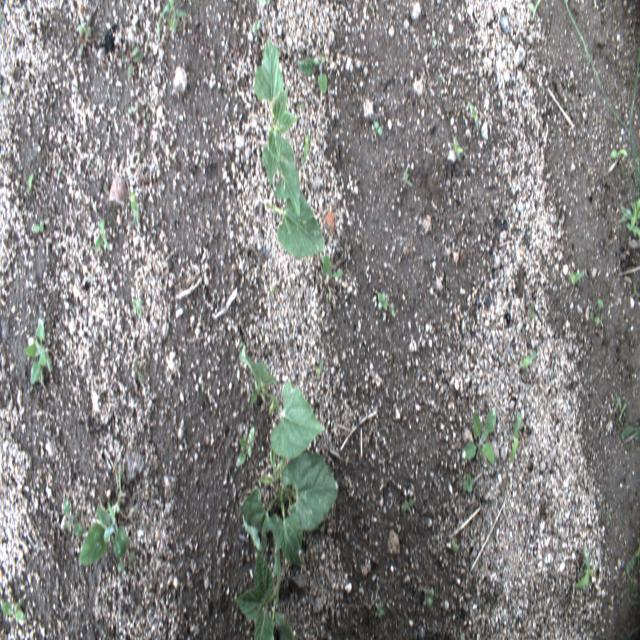crop: (242, 445, 339, 567), (238, 342, 324, 460), (253, 37, 301, 219), (234, 542, 296, 640), (265, 193, 333, 278)
weed: (563, 0, 640, 188), (79, 465, 130, 565), (22, 316, 53, 393), (463, 407, 497, 468), (157, 0, 189, 45), (623, 536, 640, 607), (298, 54, 327, 94), (571, 548, 597, 592), (618, 197, 640, 246), (235, 428, 256, 469), (62, 497, 83, 538), (0, 595, 26, 624), (509, 412, 523, 462), (122, 46, 144, 76), (93, 219, 111, 253), (77, 20, 92, 57), (519, 347, 537, 376), (321, 256, 332, 302), (250, 376, 266, 407), (589, 295, 604, 327), (129, 190, 139, 229), (526, 0, 542, 24), (118, 549, 134, 572), (468, 101, 479, 134), (616, 394, 627, 426), (462, 471, 476, 496), (132, 359, 146, 384), (453, 134, 464, 165), (568, 267, 585, 287), (609, 146, 629, 162), (623, 621, 640, 639), (302, 132, 311, 166), (401, 497, 414, 520), (376, 289, 389, 312), (622, 425, 639, 441), (402, 166, 414, 188), (132, 298, 143, 318), (32, 218, 44, 236), (522, 326, 532, 346), (27, 170, 35, 194), (527, 301, 536, 322), (426, 587, 434, 609), (373, 118, 382, 137), (630, 282, 640, 299), (376, 600, 385, 618), (451, 536, 460, 554), (252, 22, 262, 38), (316, 359, 323, 379), (369, 2, 377, 18), (430, 29, 437, 47), (604, 507, 612, 522), (256, 0, 270, 8), (439, 73, 446, 89), (332, 269, 344, 278), (269, 282, 276, 296), (390, 303, 396, 317), (0, 6, 3, 24)
